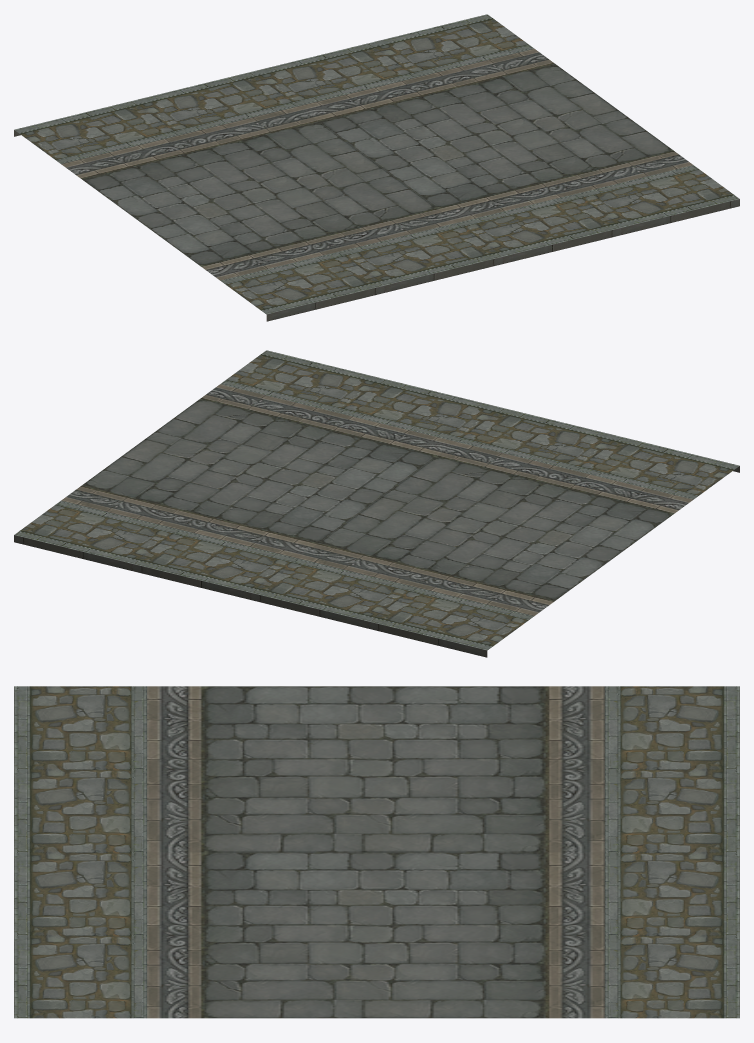
The model's file is qx_zhucheng_dimian_d.FBX.
The picture shows the model from 3 angles, top to bottom: view 1: azimuth 30°, elevation 25°; view 2: azimuth 150°, elevation 25°; view 3: azimuth 270°, elevation 25°; orthographic projection. The views are drawn at different scales.
Parts seen in each view (by area): view 1: qx_zhucheng_dimian_d; view 2: qx_zhucheng_dimian_d; view 3: qx_zhucheng_dimian_d.
Boxes of the visible parts, x1=… form: qx_zhucheng_dimian_d: x1=14, y1=14, x2=739, y2=321; qx_zhucheng_dimian_d: x1=14, y1=350, x2=739, y2=657; qx_zhucheng_dimian_d: x1=14, y1=686, x2=739, y2=1018.
Size of the model in its own units: 34.58 by 0.5 by 31.95.
